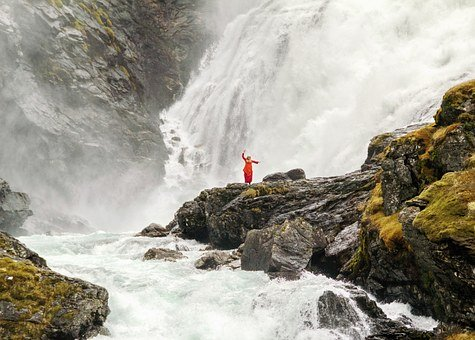waterfall: (5, 3, 453, 340)
